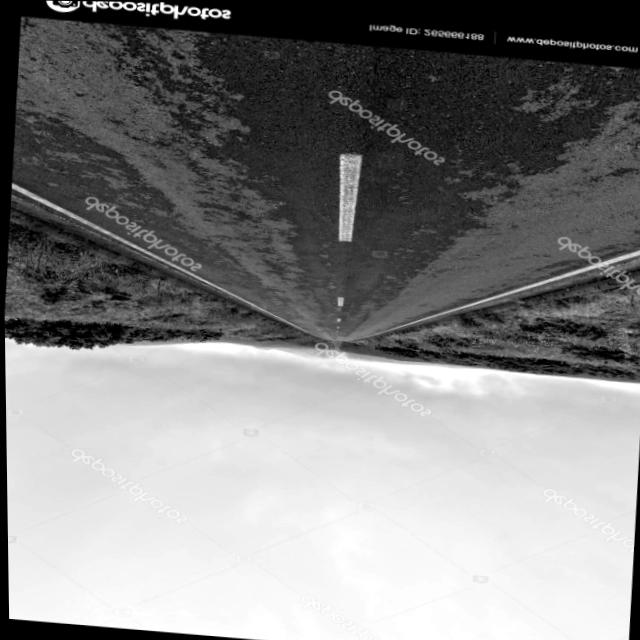cleat: (4, 0, 640, 513)
